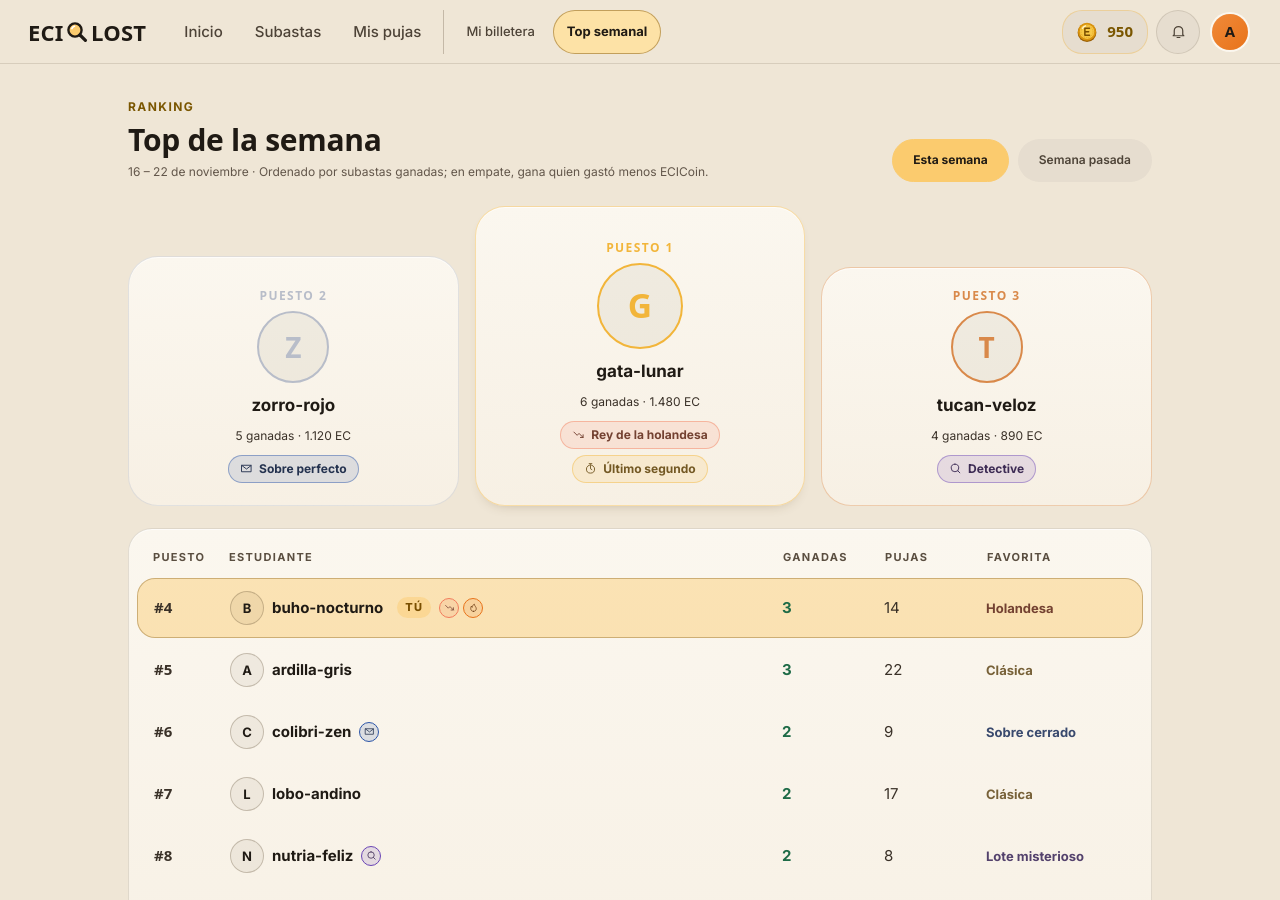
Test: Top semanal › cambia a la semana pasada sin perder la pantalla
Check: the text "gata-lunar" is shown, box [596, 358, 684, 384]
Click the button "Semana pasada": click(1085, 161) [1018, 139, 1152, 182]
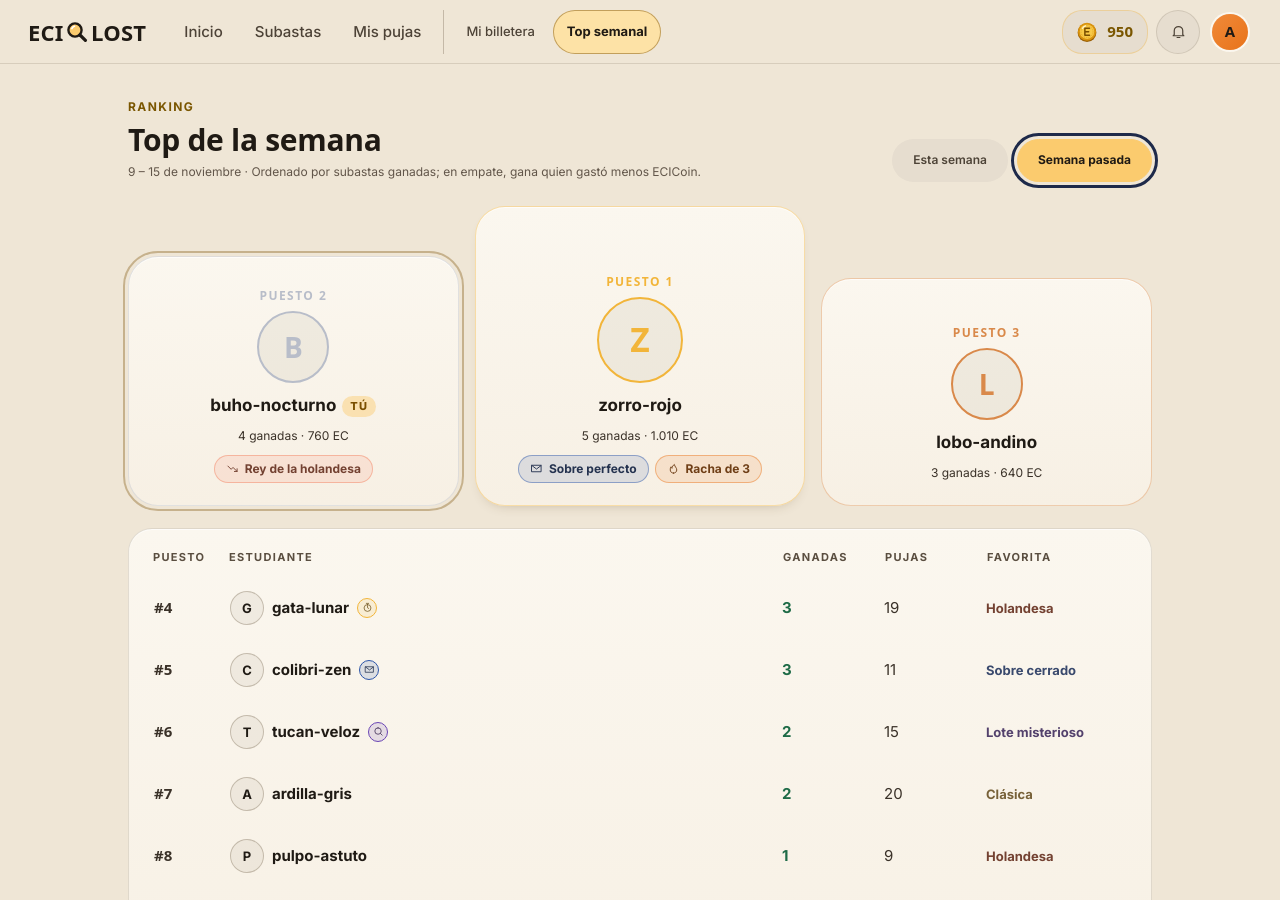
Check: the text "lobo-andino" is shown, box [936, 429, 1037, 455]
